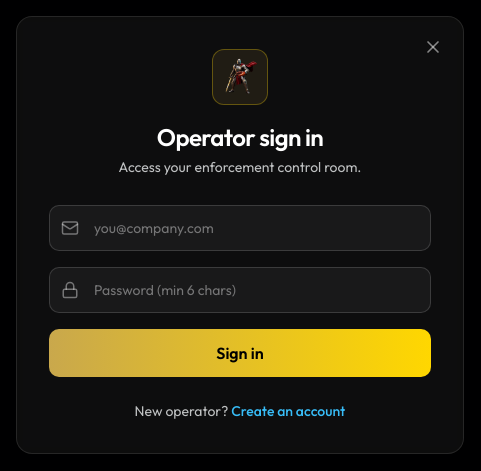
Test case: AuthModal › mode switching › switches from signin to signup when Create an account is clicked
The width and height of the screenshot is (481, 471).
Click the button with test id "switch-to-signup" at (288, 411), box [231, 401, 345, 421]
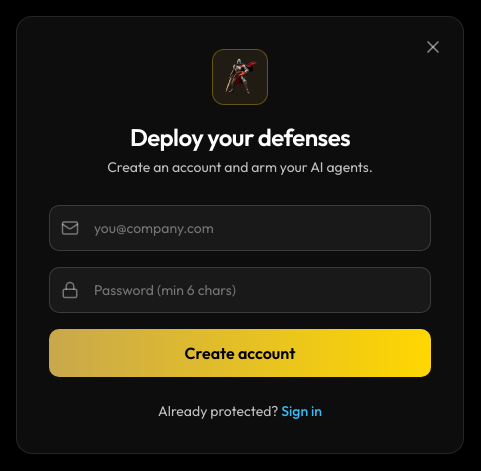
Check: the button with test id "auth-submit-btn" reads "Create account", box [49, 329, 431, 377]
